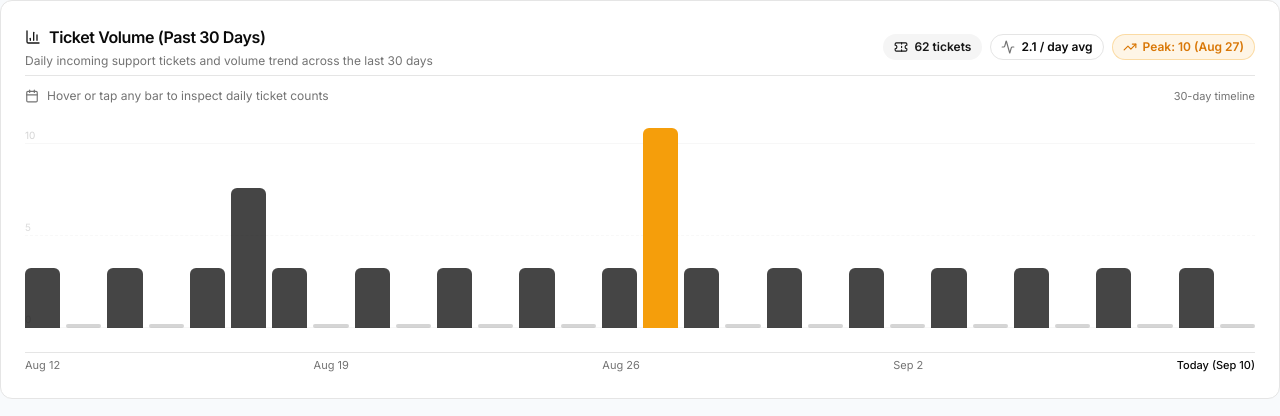
Test: TicketsPerDayChart Component Tests › 2. Hover & Interaction States › removes floating tooltip and reverts status bar when cursor leaves the bar
Hover over the button with test id "bar-day-10": (455, 298) 437,268 -> 472,328
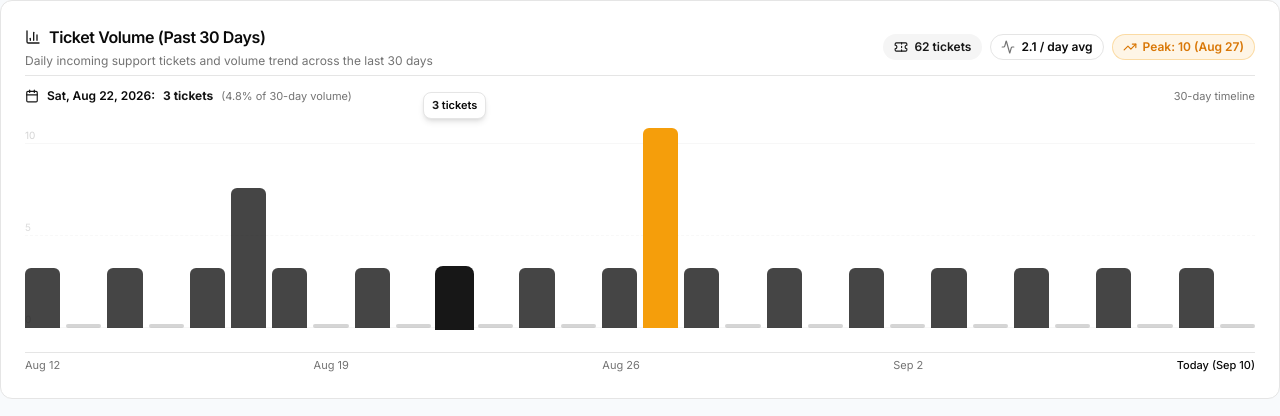
Result: the element with test id "floating-tooltip" is shown at 423,92 -> 486,118
Move the pointer off the button with test id "bar-day-10", box 437,268 -> 472,328
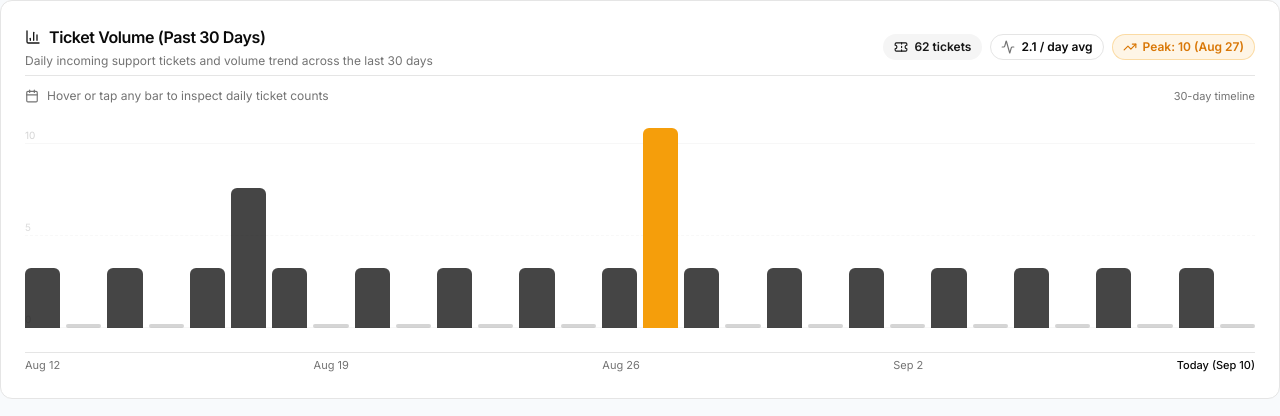
Result: the element with test id "floating-tooltip" is gone
Result: the text "Hover or tap any bar to inspect daily ticket counts" is shown at 47,88 -> 329,104
